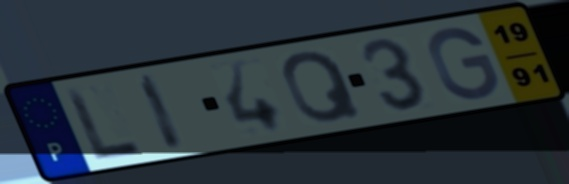3: (360, 34, 434, 114)
4: (229, 58, 289, 136)
G: (426, 25, 502, 102)
I: (134, 71, 190, 153)
L: (60, 84, 146, 164)
Q: (279, 49, 366, 126)
